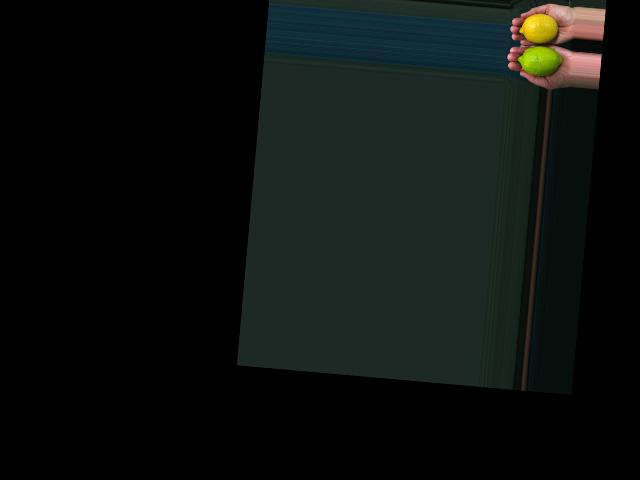lemon: (518, 12, 560, 45)
